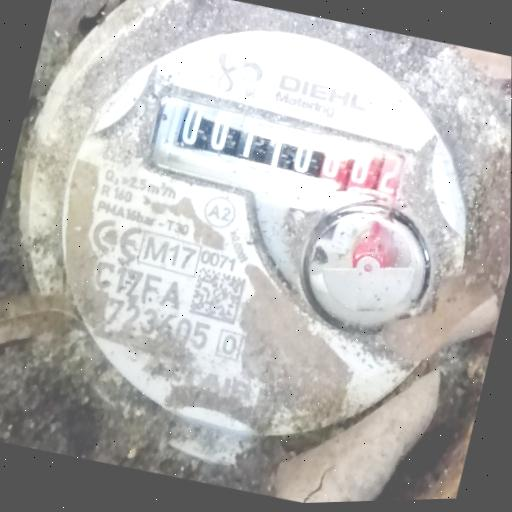0: (286, 124, 330, 178), (172, 99, 213, 151), (202, 104, 242, 157)
1: (230, 109, 270, 164), (258, 117, 298, 170)
2: (369, 145, 411, 210)
8: (342, 139, 383, 196), (317, 133, 355, 194)
border_water_meter_number: (135, 72, 428, 246)
